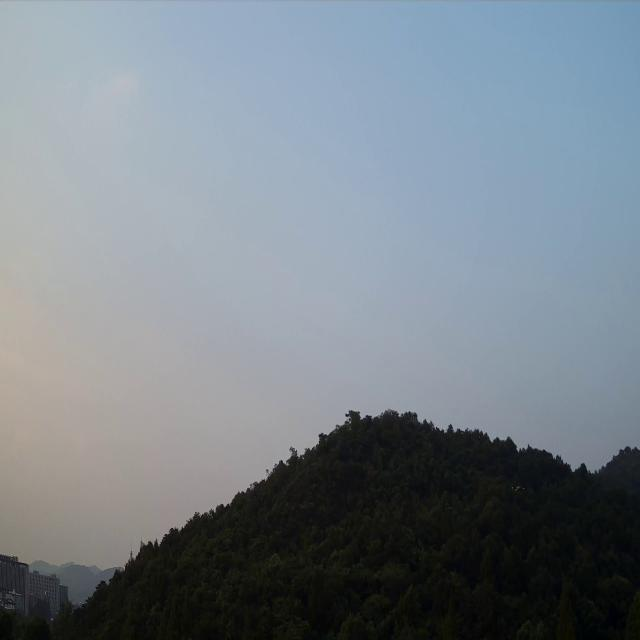UAV: (511, 483, 525, 492)
